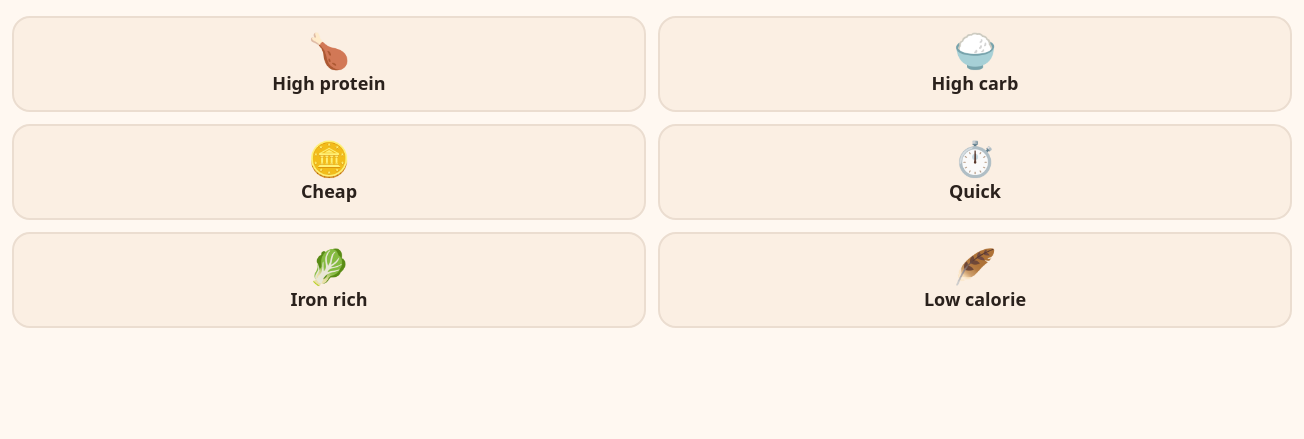
goal tiles: at most two nutrition goals › a third nutrition goal swaps out the oldest and says why
This screenshot has width=1304, height=439.
What coordinates should you click on to do the following:
click the button "🍗 High protein"
I would click on:
 (329, 64)
Its box is [12,16,646,112].
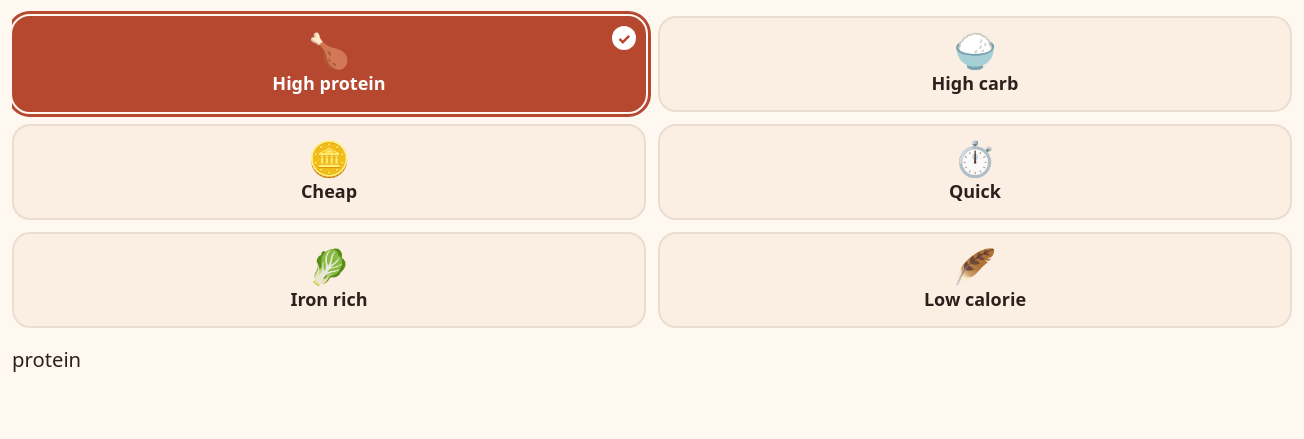
What coordinates should you click on to do the following:
click the button "🪙 Cheap"
I would click on:
 (329, 172)
Its box is [12,124,646,220].
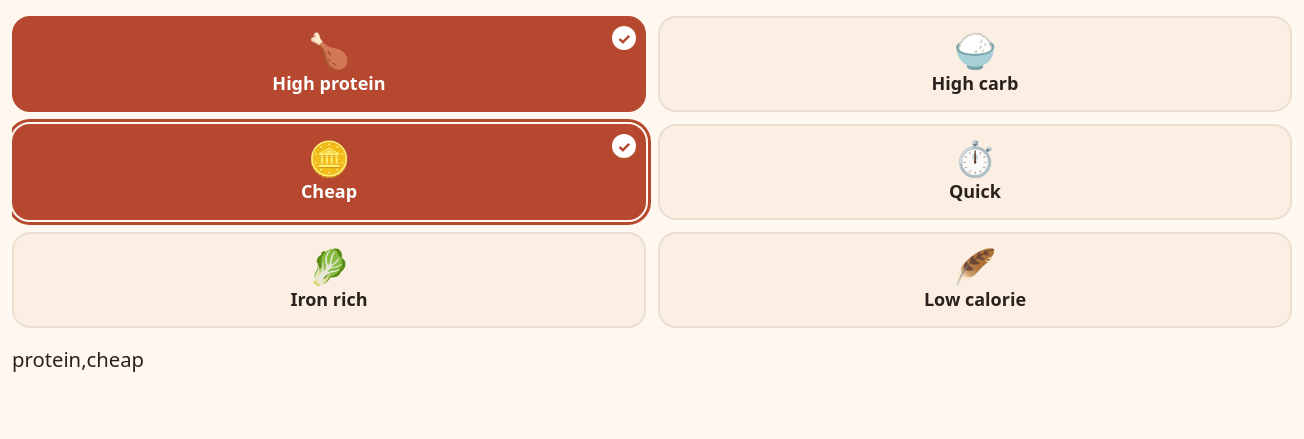
What coordinates should you click on to do the following:
click the button "🍚 High carb"
I would click on:
 (975, 64)
Its box is [658,16,1292,112].
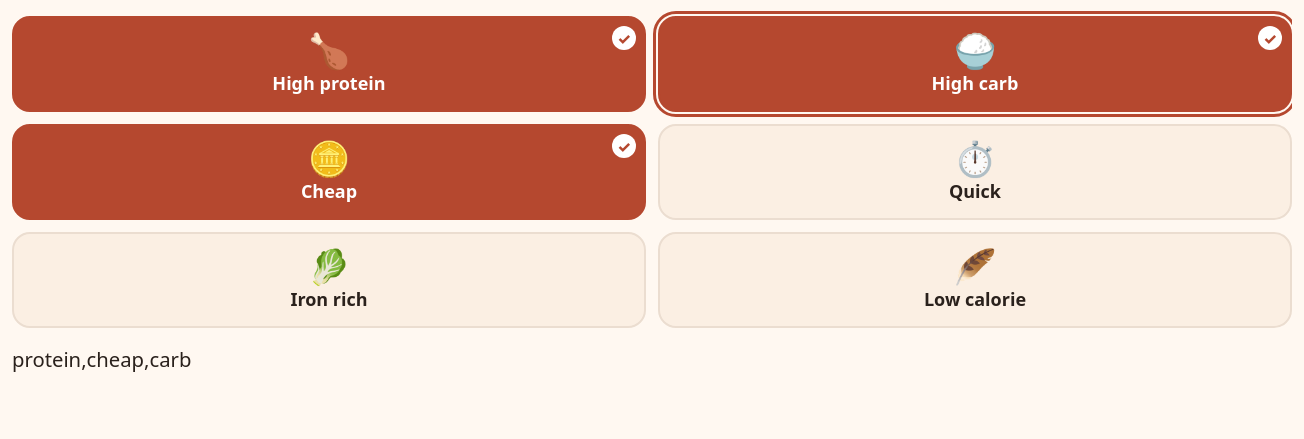
Expected: the text "Pick up to two nutrition goals" is not shown
Expected: the text named "goals" reads "protein,cheap,carb", [12,345,191,373]
What coordinates should you click on to do the following:
click the button "🥬 Iron rich"
I would click on:
 (329, 280)
Its box is [12,232,646,328].
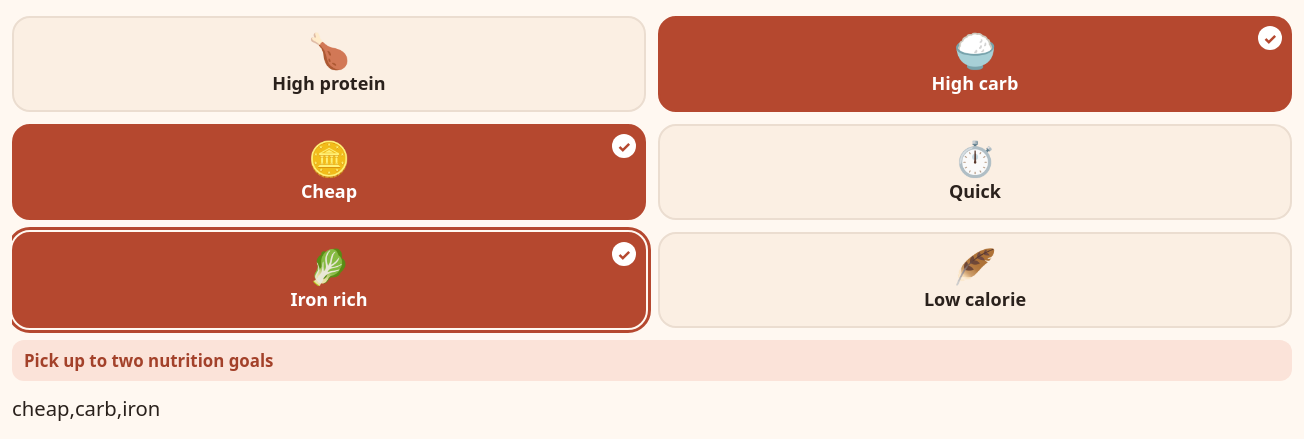
Expected: the text named "goals" reads "cheap,carb,iron", [12,394,160,422]
